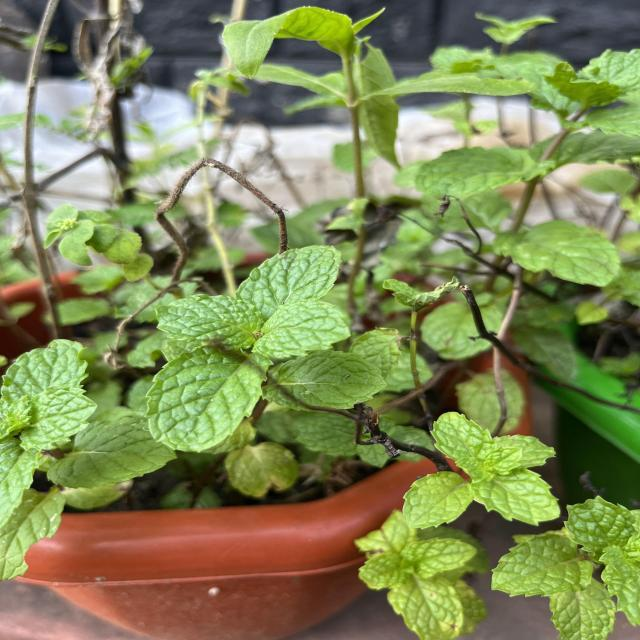Mentha spicata: (144, 345, 276, 455), (488, 533, 594, 598), (153, 293, 264, 352), (235, 244, 343, 304), (472, 468, 562, 526), (400, 470, 474, 530), (428, 410, 492, 460)
